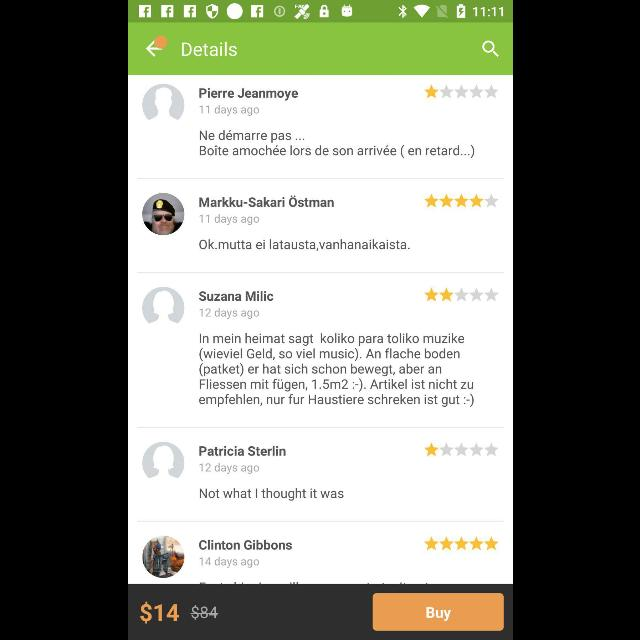icon: (141, 442, 183, 478), (141, 287, 183, 323), (142, 84, 184, 120), (424, 536, 498, 550), (424, 443, 498, 457), (424, 287, 498, 301), (424, 85, 498, 99), (424, 195, 498, 208), (145, 36, 167, 58), (482, 41, 498, 58)
image: (142, 536, 184, 578), (142, 193, 184, 235)
text: (198, 333, 474, 407), (198, 130, 474, 158), (198, 240, 410, 250), (199, 488, 343, 500), (199, 196, 333, 208), (198, 88, 298, 102), (198, 540, 292, 550), (199, 446, 285, 456), (140, 602, 178, 624), (182, 42, 236, 56), (198, 291, 272, 301), (198, 556, 258, 568), (198, 308, 258, 320), (198, 214, 258, 226), (198, 462, 258, 473), (198, 105, 258, 116), (190, 604, 217, 620)
textbutton: (372, 593, 503, 631)
toolbar: (128, 23, 512, 75)
uppertaskbar: (128, 1, 512, 23)
